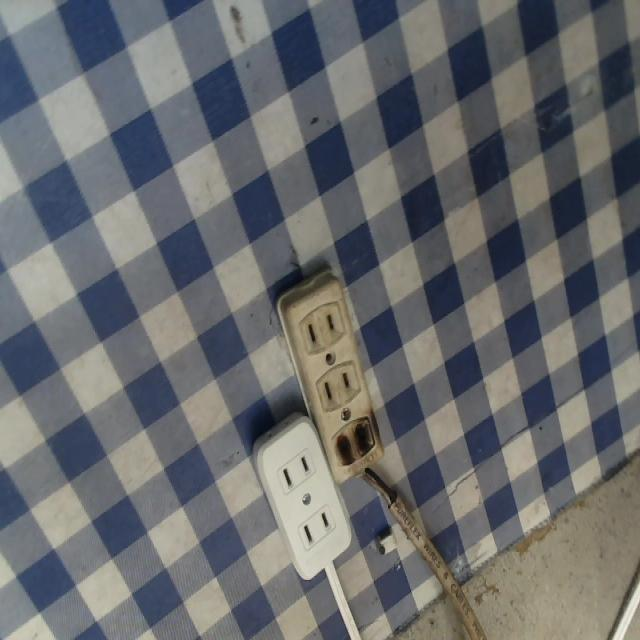-: (323, 418, 386, 473)
